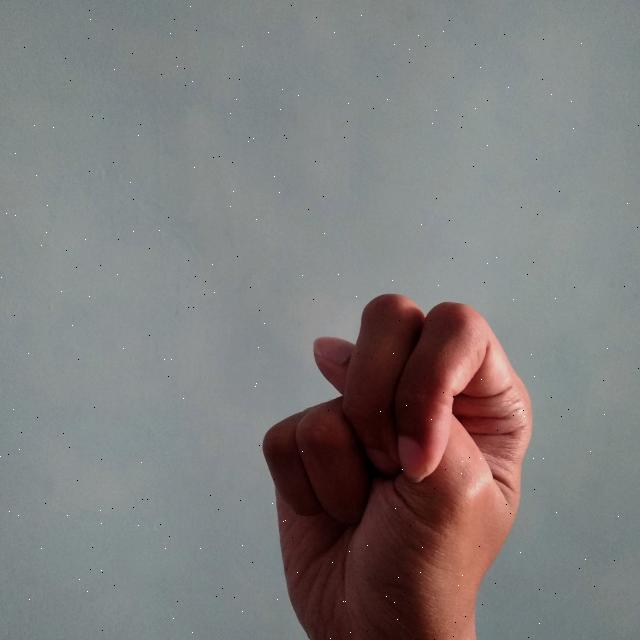N: (257, 288, 541, 640)
